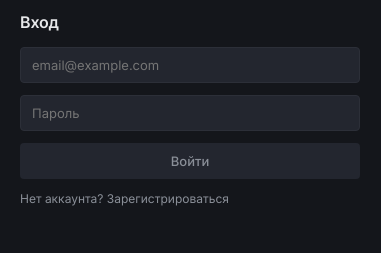
Test: LoginForm › показывает сообщение сервера при ошибке
The width and height of the screenshot is (381, 253).
Type "me@example.com" into the field labelled "email". click: point(190, 65)
box: x1=20 y1=47 x2=360 y2=83
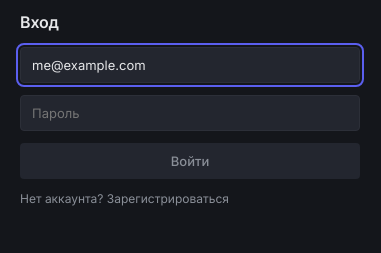
Type "wrong-password" into the password field labelled "Пароль". click: point(190, 113)
box: x1=20 y1=95 x2=360 y2=131
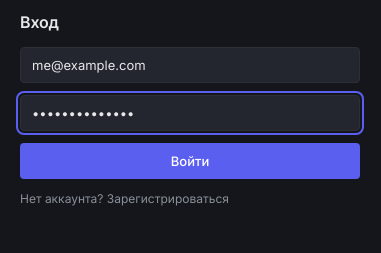
Click the button "Войти". click: point(190, 161)
box: x1=20 y1=143 x2=360 y2=179
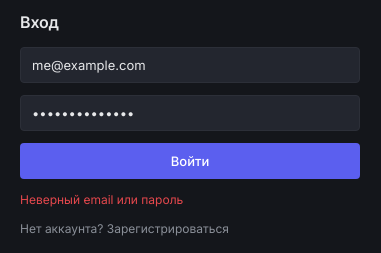
Result: the message reads "Неверный email или пароль" at x1=20 y1=192 x2=183 y2=207
